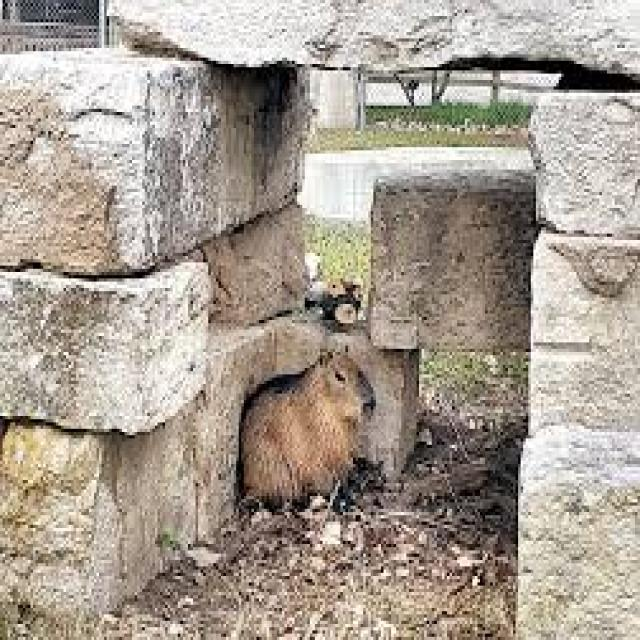capy: (239, 344, 376, 508)
